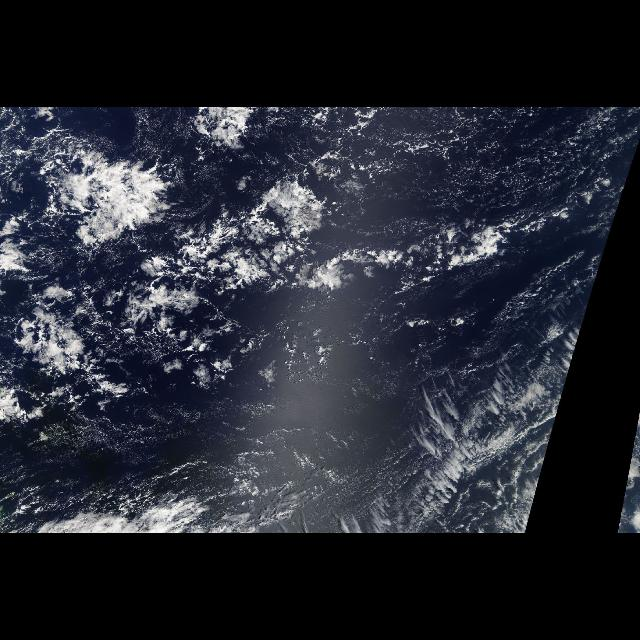Sugar: (364, 114, 630, 298), (31, 398, 392, 488)
